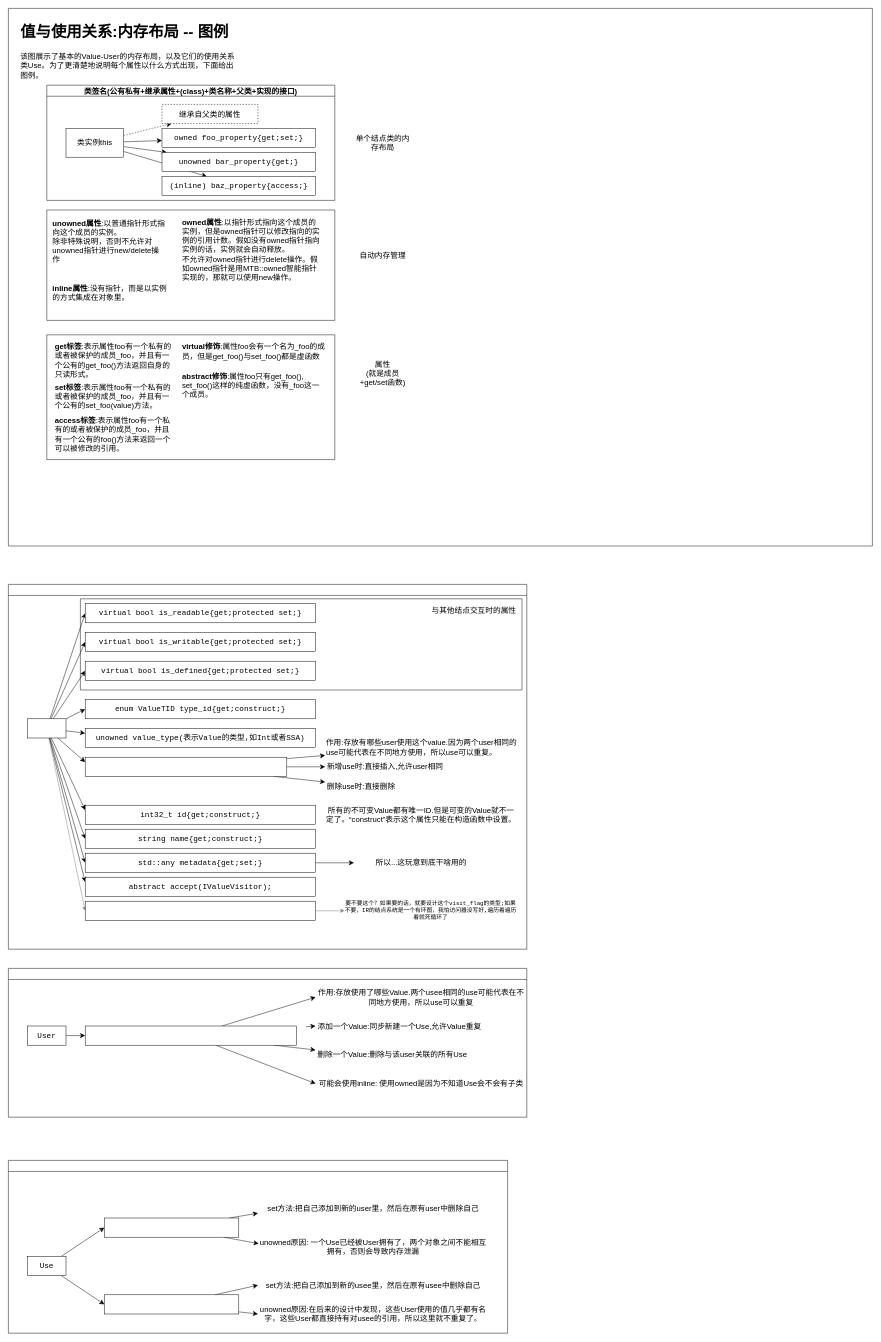
Image size: 881x1342. Some labels were removed from this diagram. Each missing label, with the box of its shape:
MultiSet<owned Use>{get;protected set;}: (85, 1026, 296, 1045)
MultiSet<unowned Use>{get;protected set;}: (85, 757, 287, 776)
public abstract class User: Value: (8, 968, 527, 1117)
public abstract class Value: MTB::Object: (8, 584, 527, 949)
public class Use: Object(C++直接做结构体也可以): (8, 1160, 508, 1333)
std::any visit_flag{get;set;}: (85, 901, 316, 920)
unowned User user{get;set;}: (104, 1218, 239, 1237)
unowned Value usee{get;set;}: (104, 1294, 239, 1314)
Value: (27, 718, 66, 738)
